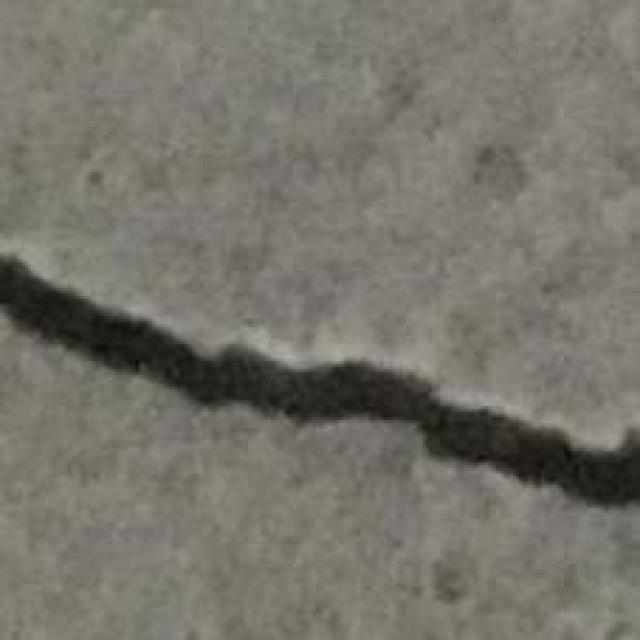Crack: (3, 254, 640, 507)
